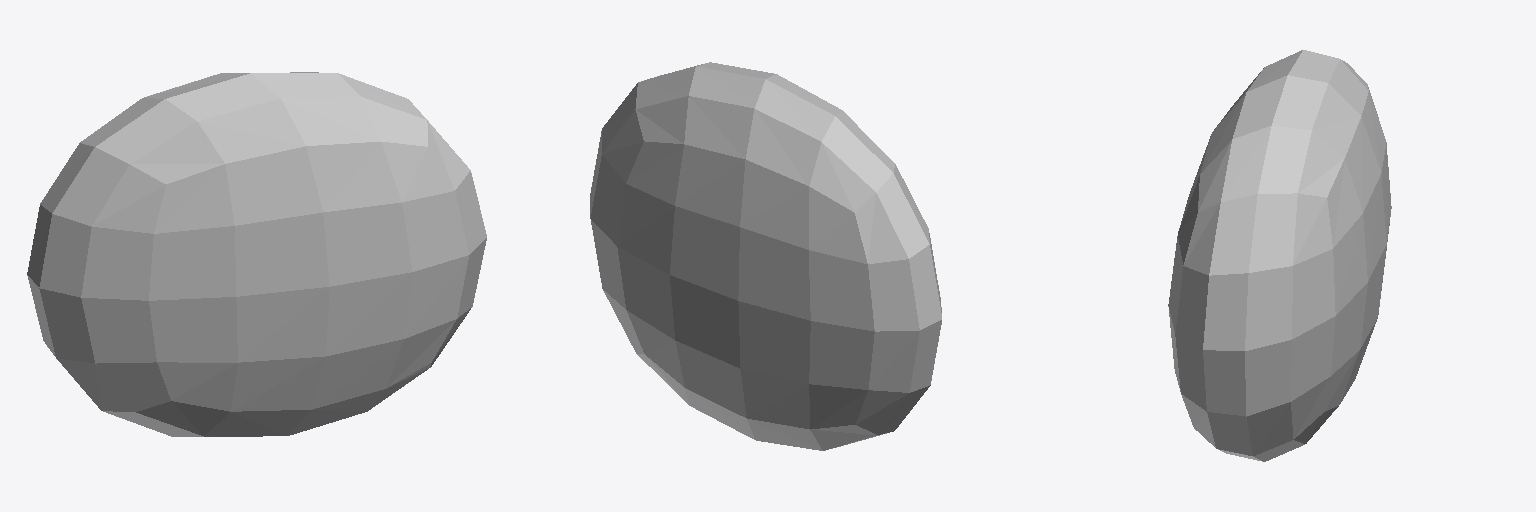
File: oso-ojo-r.obj
3 renders of one model, left to right at view 1: azimuth 30°, elevation 25°; view 2: azimuth 150°, elevation 25°; view 3: azimuth 270°, elevation 25°, orthographic.
Parts seen in each view (by area): view 1: Cube.008_Cube.015; view 2: Cube.008_Cube.015; view 3: Cube.008_Cube.015.
Part boxes in pixels (bbox=[...]): Cube.008_Cube.015: bbox=[27, 72, 486, 436]; Cube.008_Cube.015: bbox=[590, 62, 941, 450]; Cube.008_Cube.015: bbox=[1168, 50, 1391, 461].
Bounding box in the file's own units: 0.395 × 0.3477 × 0.1953.